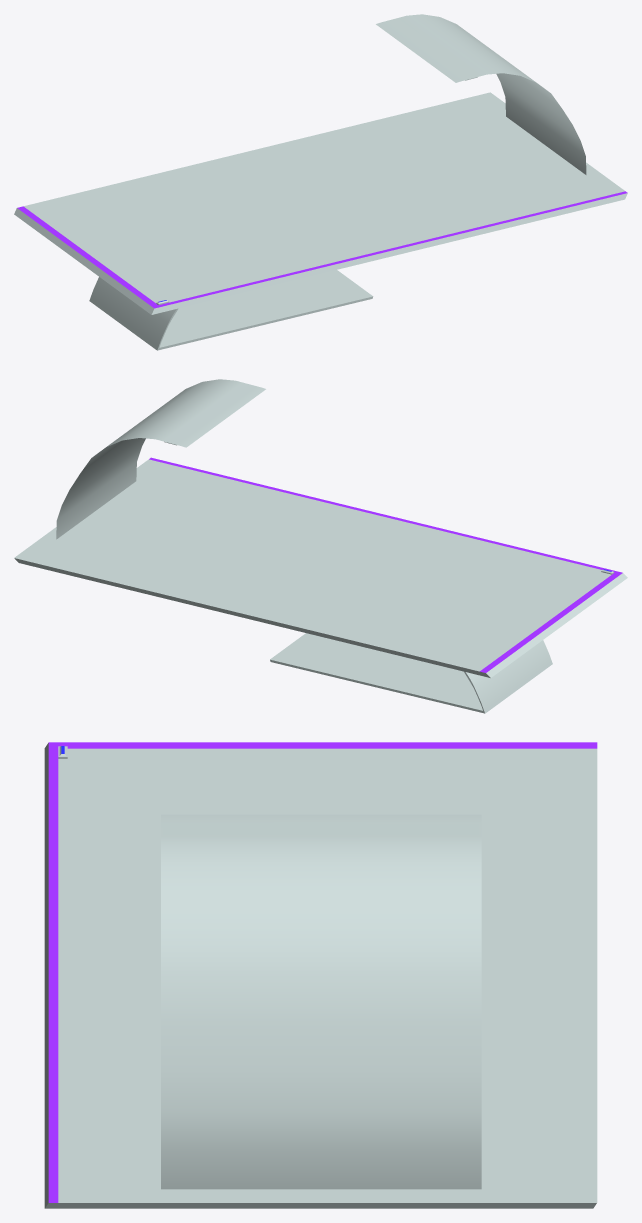
The model's file is scifi+bed.fbx.
3 views of the same model, one above another, from view 1: azimuth 30°, elevation 25°; view 2: azimuth 150°, elevation 25°; view 3: azimuth 270°, elevation 25° (orthographic). The views are drawn at different scales.
Parts seen in each view (by area): view 1: flat_bed, stand, light_stand; view 2: flat_bed, stand, light_stand; view 3: flat_bed, light_stand, stand.
Part boxes in pixels (x1=…): flat_bed: x1=17, y1=92, x2=627, y2=308; stand: x1=14, y1=193, x2=627, y2=350; light_stand: x1=376, y1=14, x2=586, y2=174; flat_bed: x1=14, y1=457, x2=622, y2=672; stand: x1=14, y1=558, x2=627, y2=713; light_stand: x1=56, y1=379, x2=265, y2=539; flat_bed: x1=48, y1=742, x2=597, y2=1202; light_stand: x1=161, y1=814, x2=481, y2=1189; stand: x1=44, y1=743, x2=596, y2=1208.
Bounding box in the file's own units: 470 × 190 × 236.
